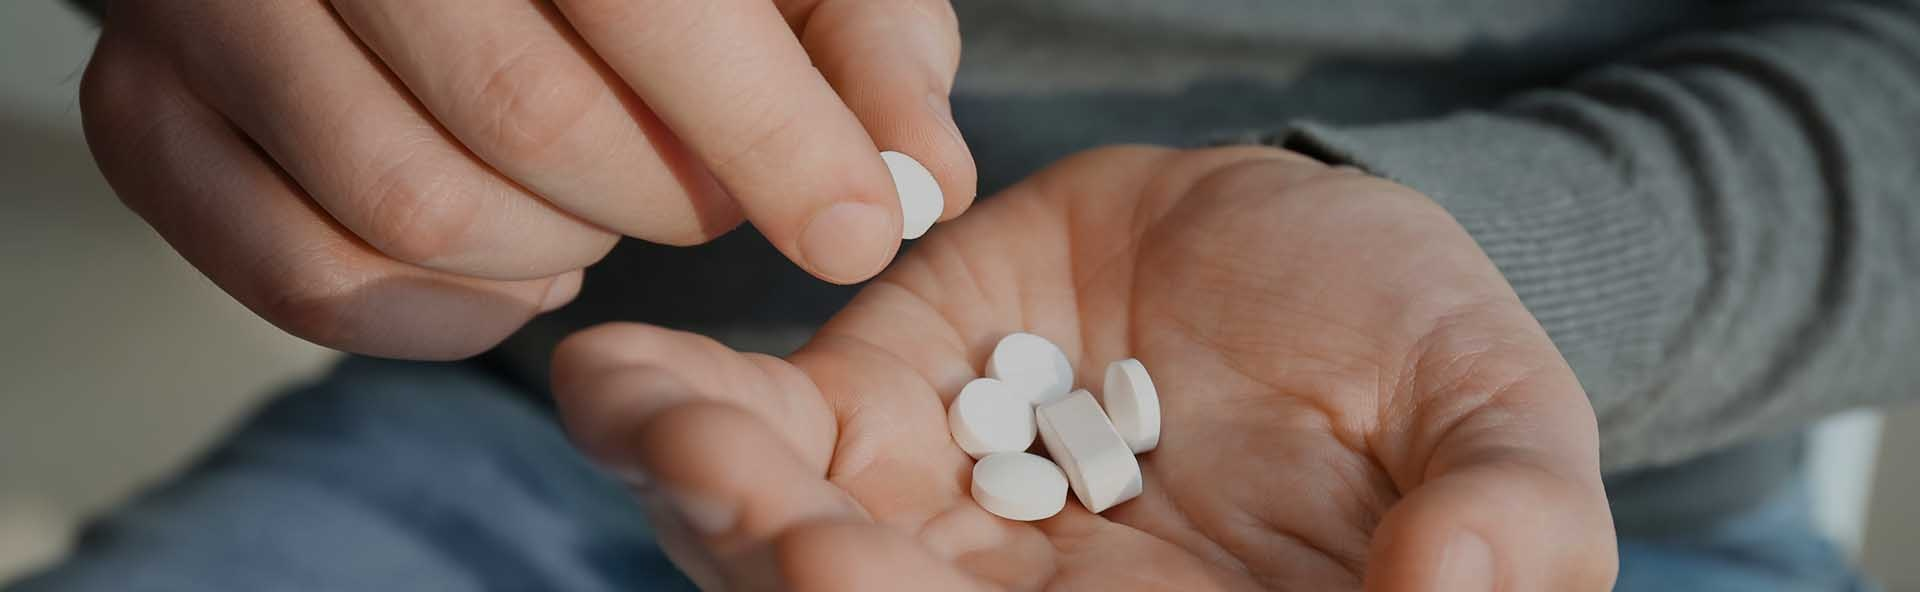pills: (1048, 385, 1149, 504), (965, 445, 1071, 525), (958, 379, 1040, 458), (1122, 335, 1167, 458), (873, 154, 947, 230), (992, 328, 1071, 398)
